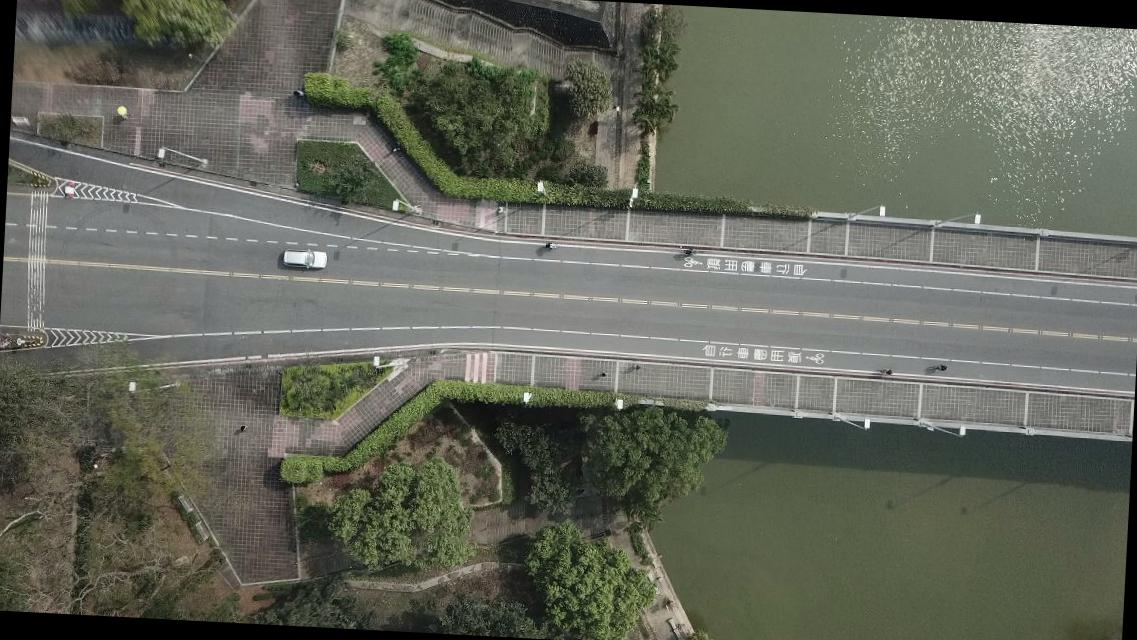vehicle: (282, 248, 326, 270)
